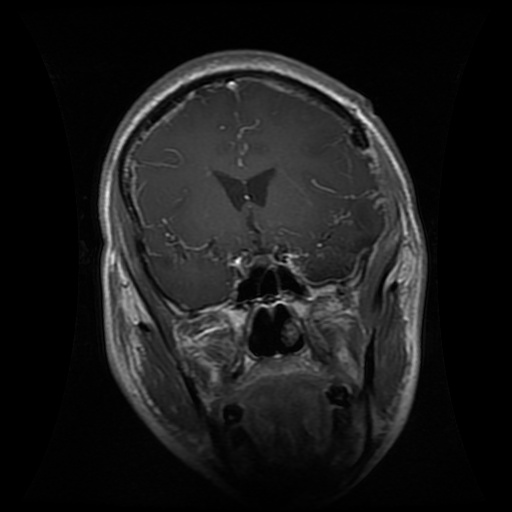glioma: (308, 188, 385, 278)
